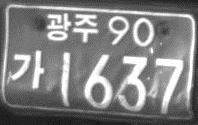0: (132, 16, 155, 47)
1: (60, 49, 72, 109)
3: (120, 55, 147, 113)
6: (83, 52, 114, 110)
7: (154, 56, 184, 115)
9: (107, 13, 130, 45)
가: (10, 49, 45, 89)
광주_O: (44, 12, 99, 44)
